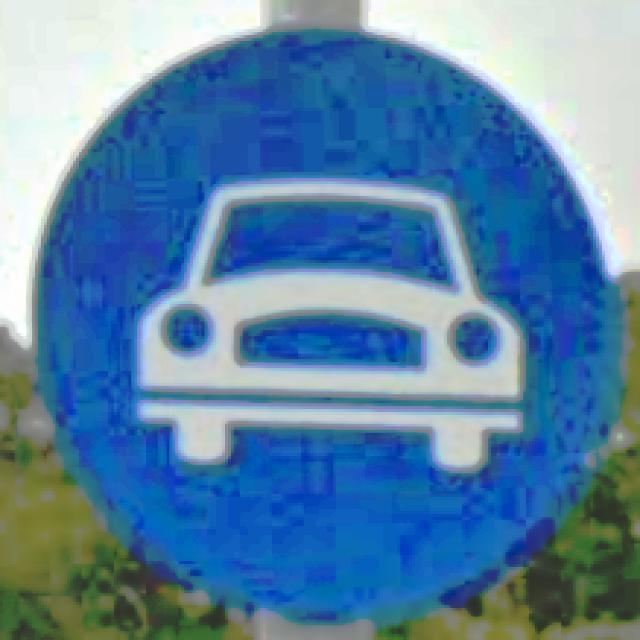car: (27, 20, 626, 626)
